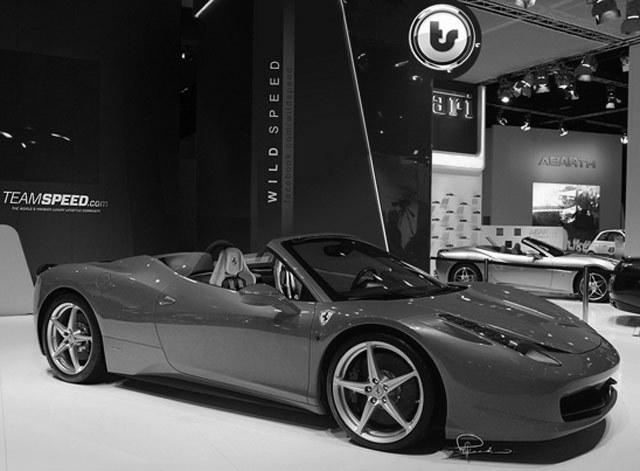car: (26, 232, 629, 453)
